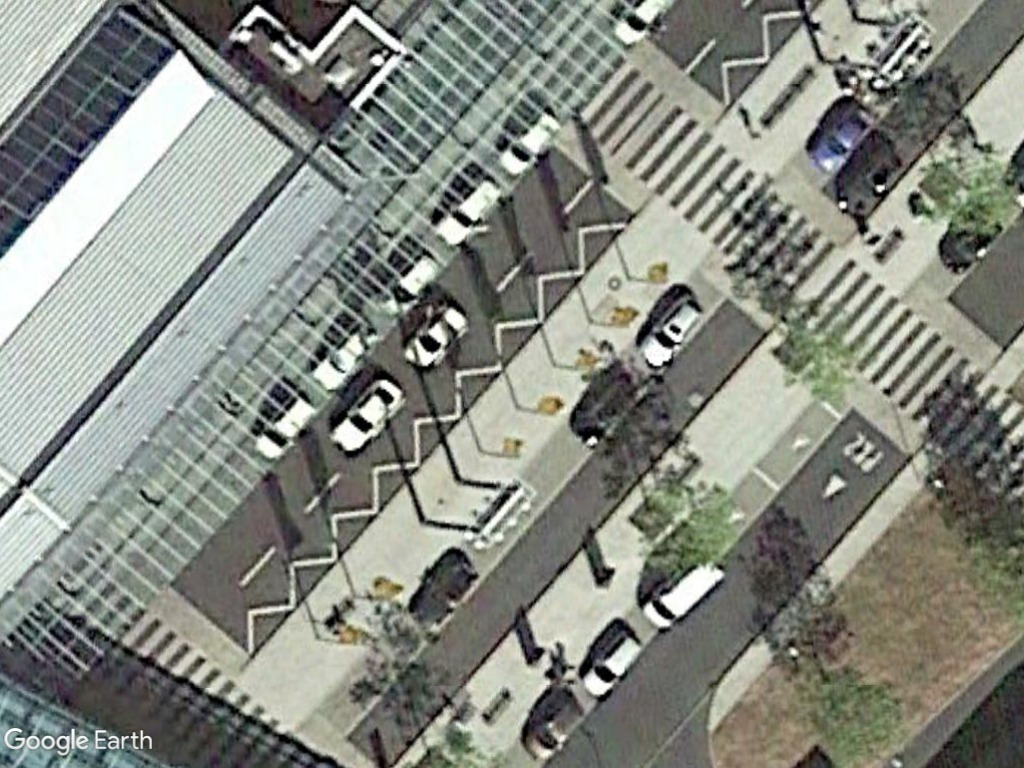car: (328, 372, 404, 465), (571, 625, 661, 702), (806, 99, 883, 183), (398, 296, 473, 379), (641, 283, 708, 373)
van: (640, 553, 729, 637)
